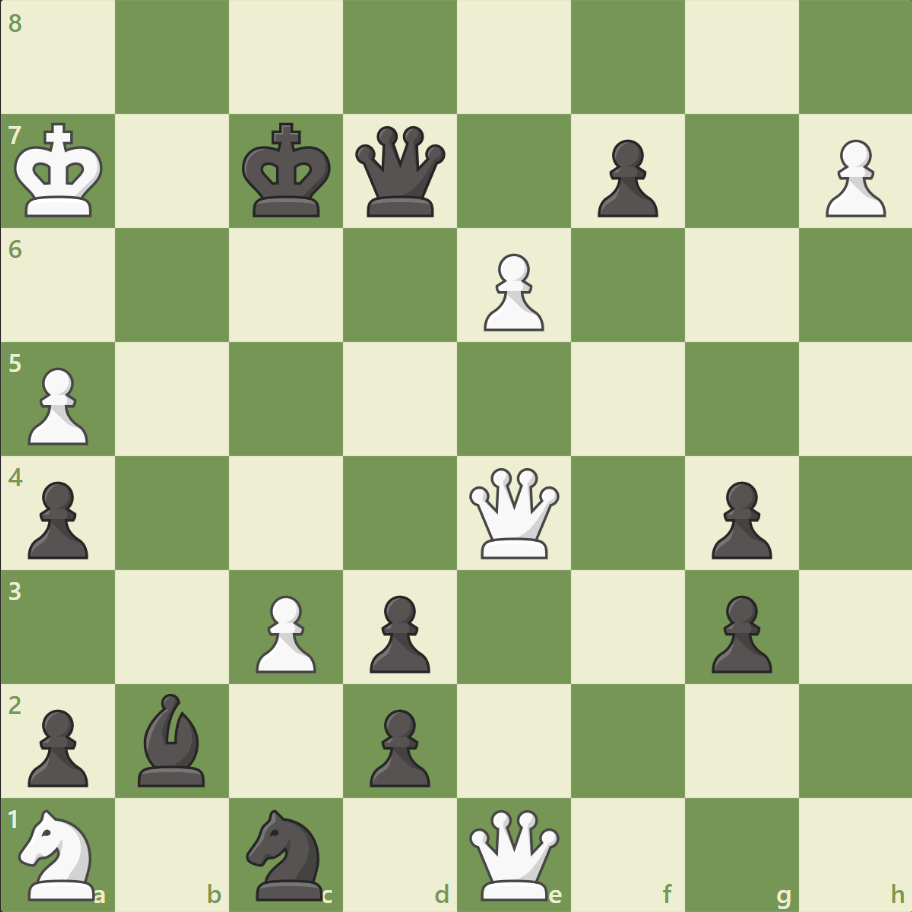K: (11, 117, 111, 225)
N: (11, 802, 108, 904)
P: (474, 246, 549, 337), (20, 359, 95, 450), (247, 586, 322, 677), (815, 132, 889, 223)
Q: (464, 463, 563, 562), (464, 804, 563, 903)
b: (131, 687, 215, 790)
k: (238, 117, 338, 225)
n: (238, 802, 335, 904)
p: (20, 473, 95, 564), (701, 473, 776, 564), (701, 586, 776, 677), (20, 700, 95, 791), (588, 132, 662, 223), (361, 586, 435, 677), (361, 700, 435, 791)
q: (351, 122, 450, 222)
